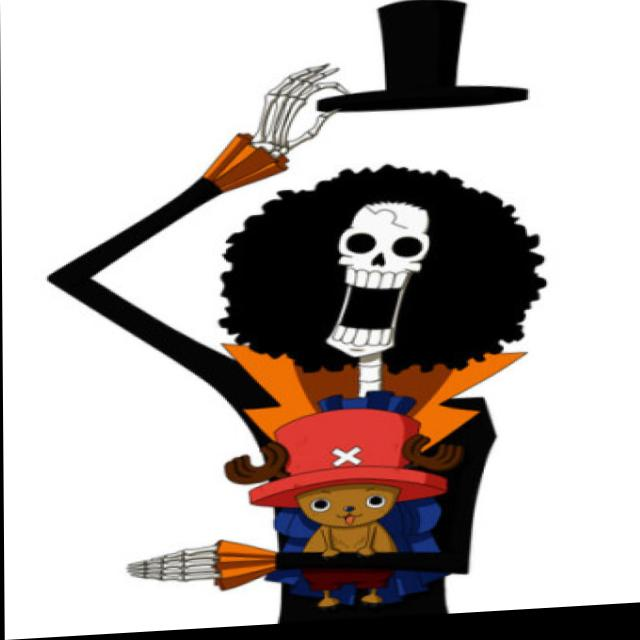Blook: (198, 135, 543, 409)
